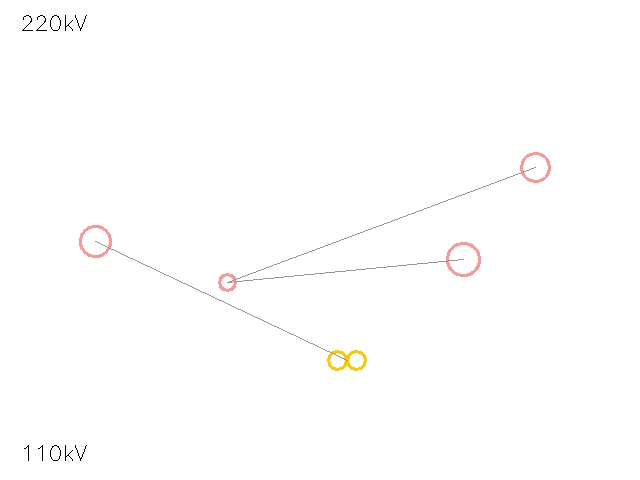disconnect_switch: (430, 226, 496, 292)
fuse: (65, 211, 125, 271)
load_break_switch: (210, 265, 244, 299)
surge_arrester: (507, 139, 563, 195)
transformer_2w: (323, 336, 371, 384)
